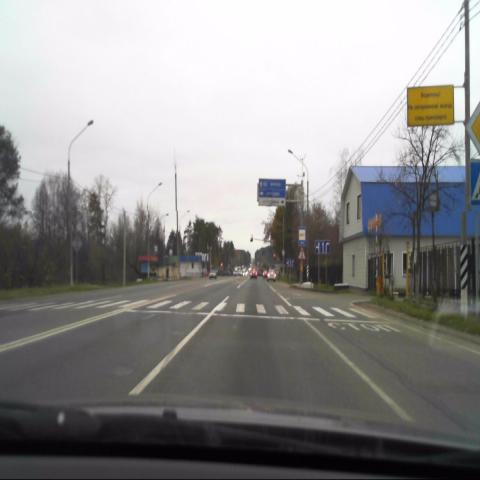1_8: (298, 247, 306, 260)
5_15_1: (315, 240, 330, 254)
7_12: (298, 227, 306, 246)
